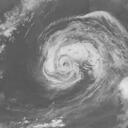cyclone: (36, 11, 126, 92)
